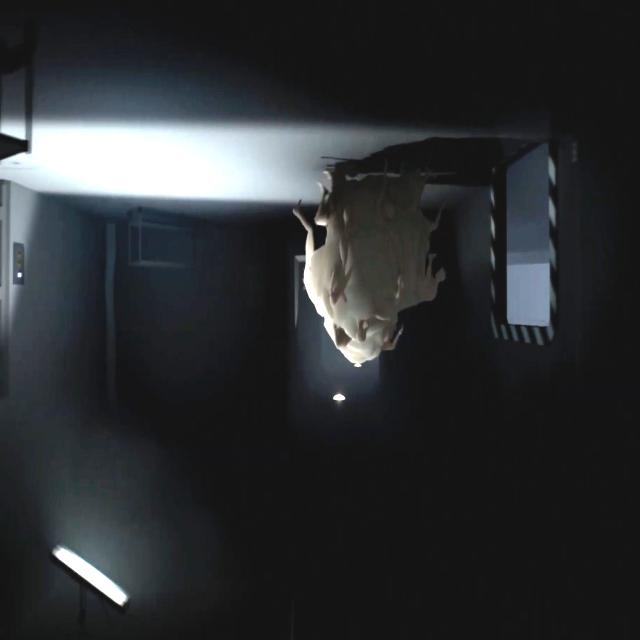blob: (294, 162, 445, 366)
